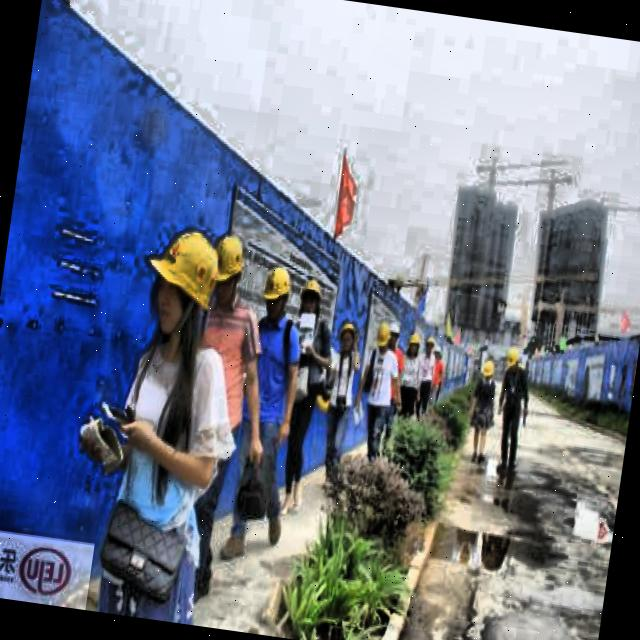helmet: (140, 220, 227, 348), (204, 224, 256, 318), (256, 262, 294, 327), (295, 276, 324, 328), (372, 318, 395, 357), (338, 318, 362, 352), (404, 326, 426, 362), (478, 356, 500, 389), (504, 347, 524, 381)
